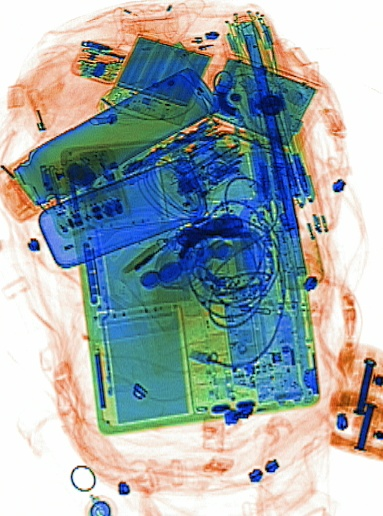powerbank: (101, 29, 214, 128)
